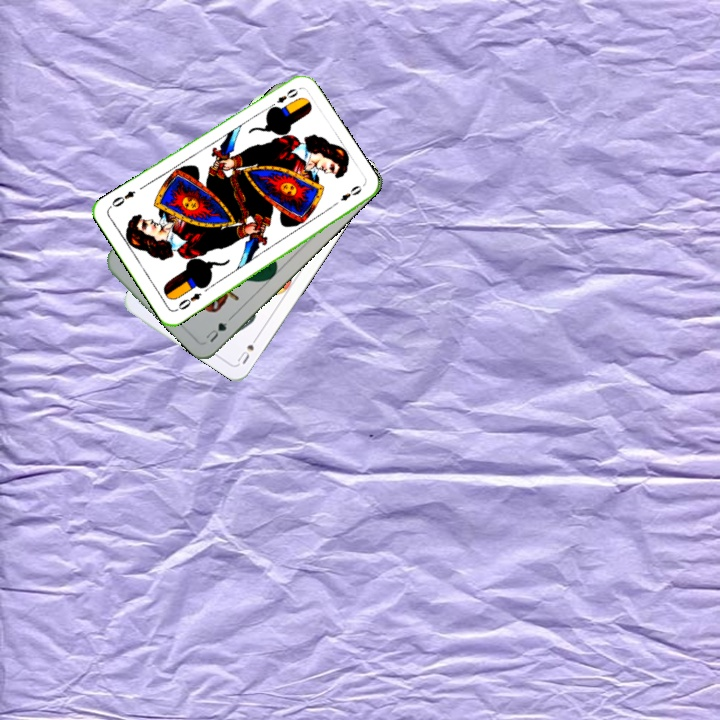EO: (265, 84, 301, 112), (172, 289, 204, 314)
GU: (202, 317, 230, 345)
SU: (233, 330, 262, 367)
